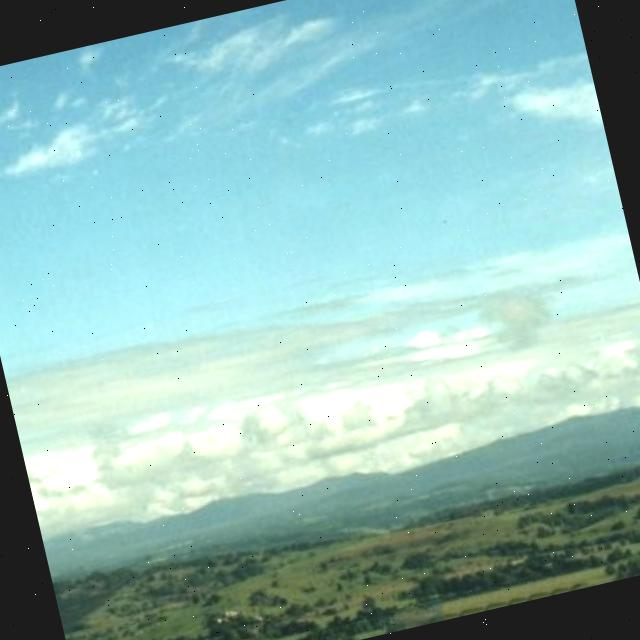St: (1, 1, 640, 535)
